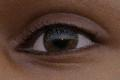eye: (44, 28, 78, 51)
